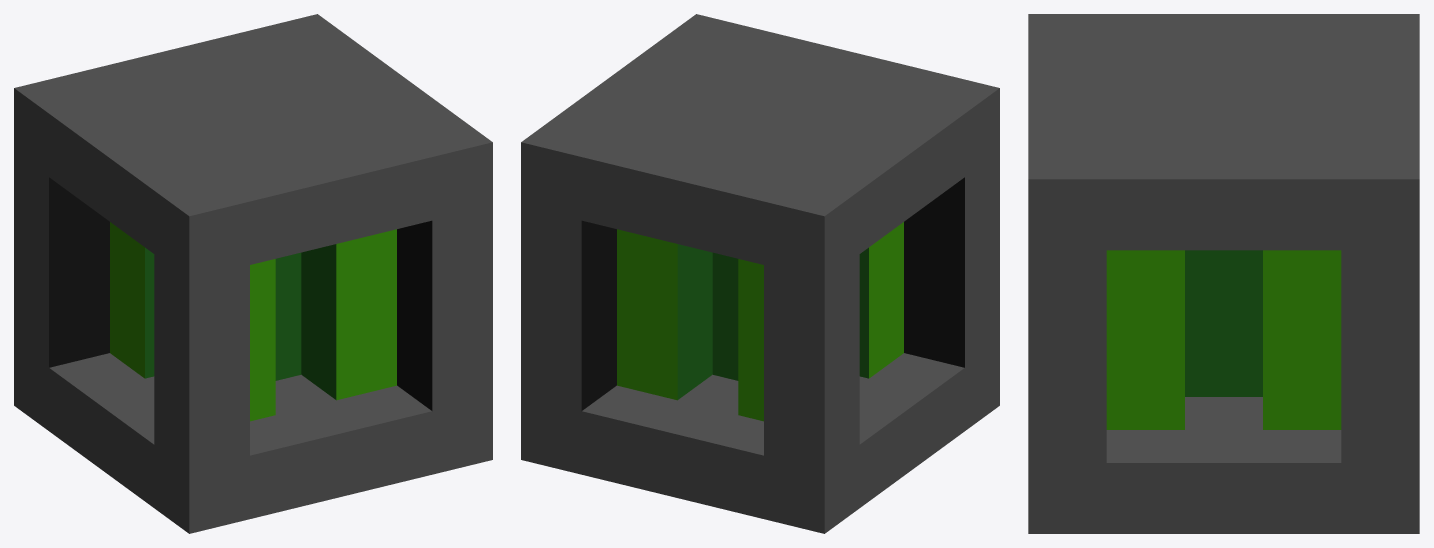
The model's file is reattore.obj.
3 renders of one model, left to right at view 1: azimuth 30°, elevation 25°; view 2: azimuth 150°, elevation 25°; view 3: azimuth 270°, elevation 25°, orthographic. The views are drawn at different scales.
Visible parts, largest first — view 1: Cube.001; view 2: Cube.001; view 3: Cube.001.
Part boxes in pixels (bbox=[...]): Cube.001: bbox=[14, 14, 492, 533]; Cube.001: bbox=[521, 14, 999, 533]; Cube.001: bbox=[1028, 14, 1419, 533].
Size of the model in its own units: 14.13 by 14.13 by 14.13.
